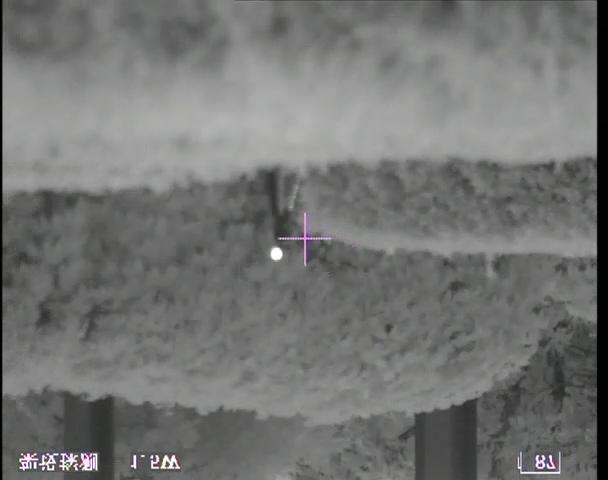my: (269, 246, 283, 262)
